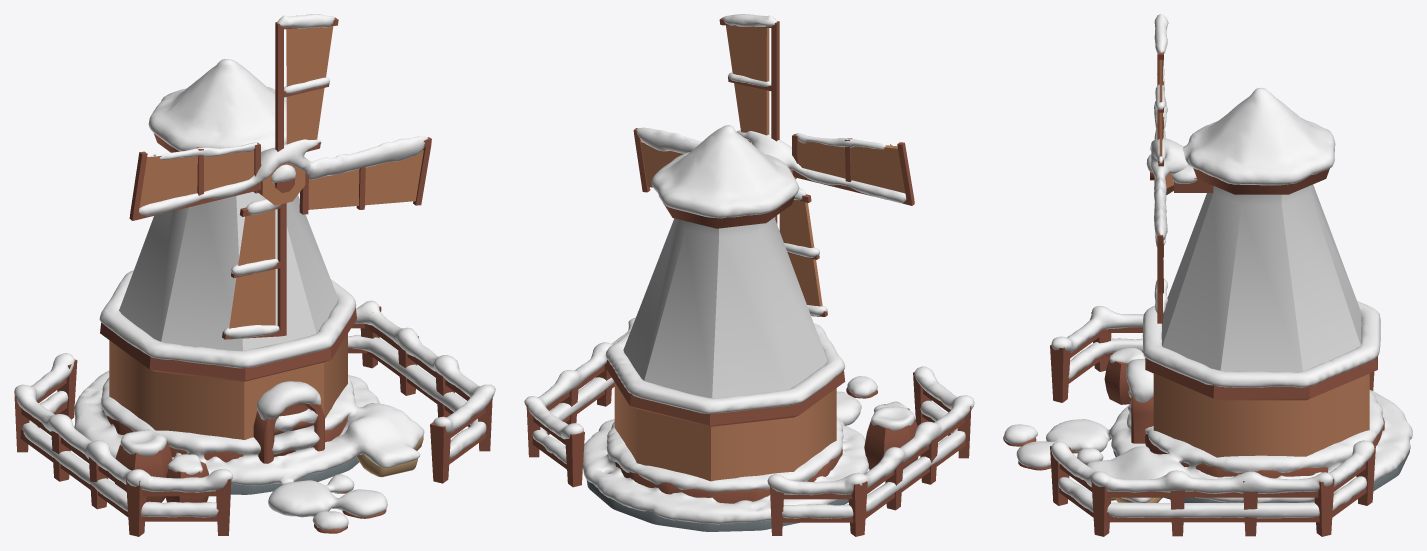
Rendered from mill.fbx.
3 renders of one model, left to right at view 1: azimuth 30°, elevation 25°; view 2: azimuth 150°, elevation 25°; view 3: azimuth 270°, elevation 25°, orthographic. The views are drawn at different scales.
Visible parts, largest first — view 1: SnowBall.001, mill, mill_blades, SnowBall.002; view 2: mill, SnowBall.001, mill_blades, SnowBall.002; view 3: mill, SnowBall.001, SnowBall.002, mill_blades.
Part boxes in pixels (left/top/right/bottom): SnowBall.001: left=14, top=59, right=495, bottom=529; mill: left=14, top=133, right=492, bottom=536; mill_blades: left=129, top=17, right=431, bottom=339; SnowBall.002: left=139, top=14, right=428, bottom=339; mill: left=526, top=196, right=971, bottom=536; SnowBall.001: left=524, top=125, right=974, bottom=524; mill_blades: left=633, top=17, right=914, bottom=316; SnowBall.002: left=636, top=14, right=906, bottom=315; mill: left=1003, top=168, right=1409, bottom=536; SnowBall.001: left=1004, top=87, right=1412, bottom=518; SnowBall.002: left=1150, top=14, right=1187, bottom=313; mill_blades: left=1154, top=15, right=1173, bottom=323.
Bounding box in the file's own units: 170 × 201 × 168.
